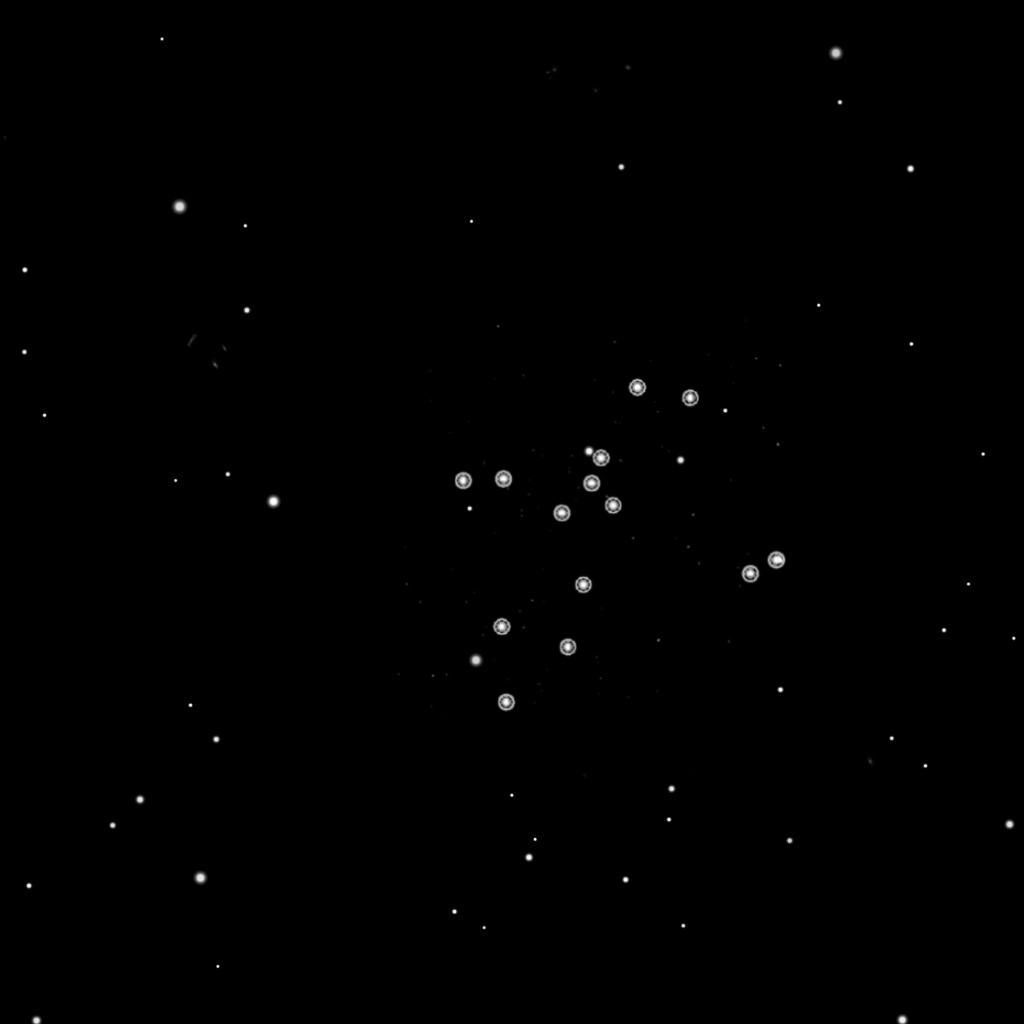canis_major: (551, 374, 703, 528)
